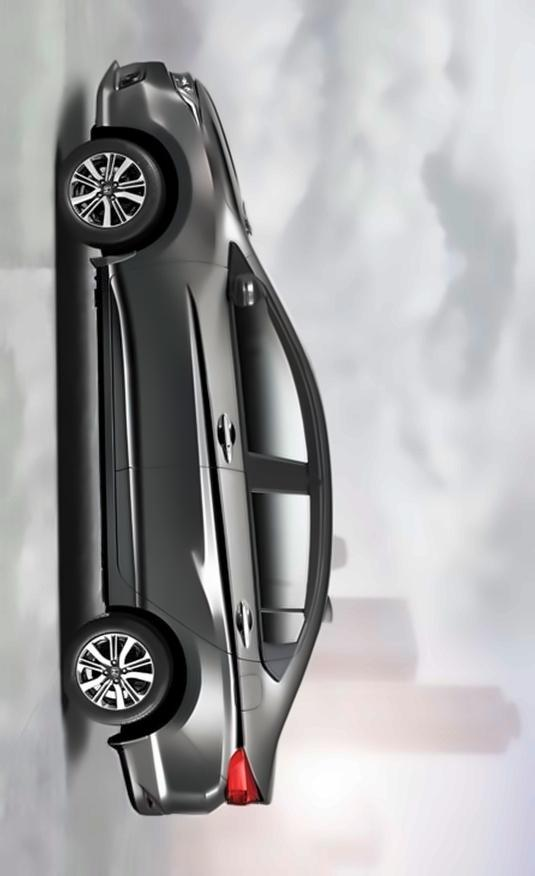Car hood: (192, 74, 254, 223)
Fender - -F-L-: (99, 121, 255, 267)
Fender - -R-L-: (104, 580, 270, 780)
Front bumper: (77, 56, 191, 144)
Headlight - -L-: (164, 59, 212, 131)
Passenger-s door - -F-L-: (107, 267, 328, 475)
Passenger-s door - -R-L-: (113, 472, 329, 662)
Rear bumper: (100, 717, 232, 825)
Rear light - -L-: (214, 739, 270, 816)
Side bumper - -L-: (90, 246, 130, 626)
Side mirror - -L-: (222, 263, 280, 323)
